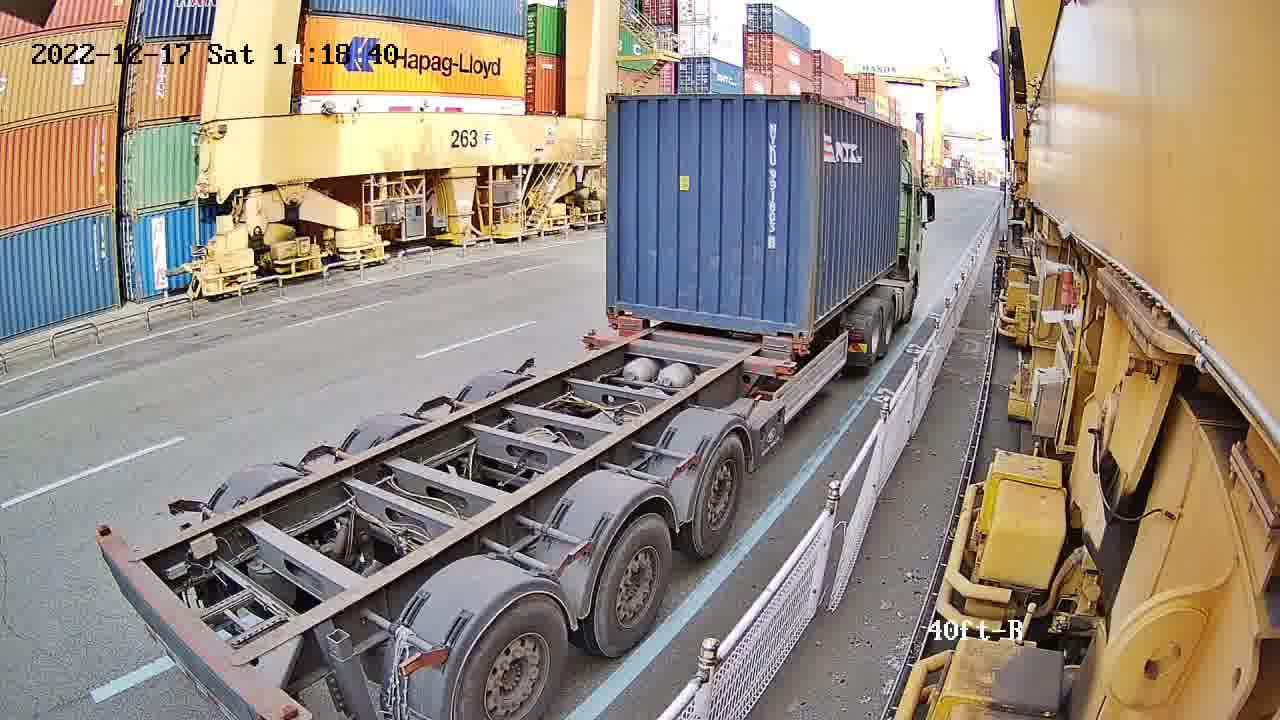Chassis: (95, 529, 316, 719)
Cone: (268, 698, 306, 719), (92, 517, 120, 540), (792, 343, 811, 357), (606, 318, 619, 331)
Hole_L: (605, 288, 637, 316)
Hole_R: (775, 309, 812, 340)
Tire: (457, 598, 568, 717), (591, 518, 673, 651), (694, 441, 746, 553)
